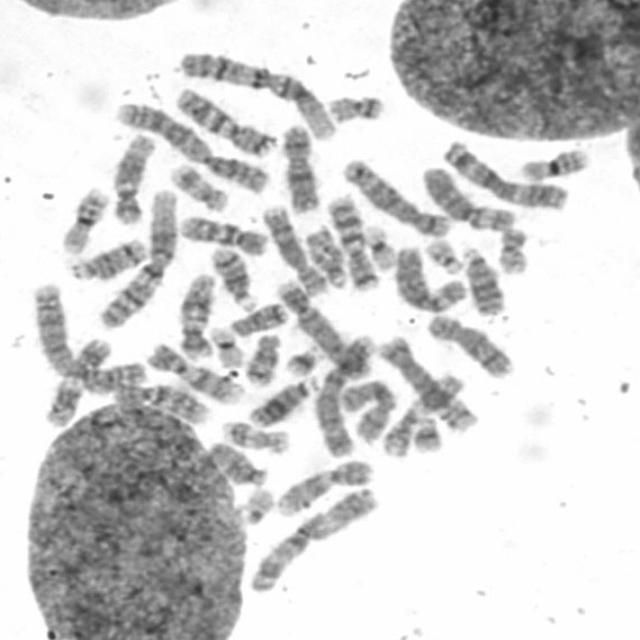A1: (172, 45, 340, 142), (92, 180, 182, 330)
A2: (109, 96, 273, 194), (24, 274, 150, 392)
A3: (242, 480, 381, 595), (436, 134, 572, 211)
B4: (269, 272, 374, 381), (309, 327, 380, 459)
B5: (371, 330, 480, 434), (336, 151, 454, 239)
C10: (105, 376, 214, 426), (172, 208, 271, 257)
C11: (373, 367, 467, 459), (37, 331, 114, 428)
C12: (105, 127, 158, 226), (171, 267, 218, 360)
C6: (416, 159, 519, 232), (388, 238, 470, 313)
C7: (169, 80, 280, 158), (320, 186, 382, 292)
C8: (255, 198, 331, 298), (421, 306, 517, 379)
C9: (269, 452, 378, 518), (141, 337, 246, 405)
D13: (242, 368, 323, 429), (454, 240, 508, 317)
D14: (64, 232, 151, 282), (203, 240, 260, 312)
D15: (203, 436, 271, 488), (300, 222, 351, 289)
E16: (54, 180, 112, 255), (514, 140, 594, 182)
E17: (162, 156, 232, 213), (214, 414, 294, 454)
E18: (223, 296, 291, 338), (238, 327, 284, 387)
F19: (357, 217, 399, 272), (204, 320, 248, 368)
F20: (321, 86, 388, 124), (492, 220, 533, 276)
G21: (279, 337, 326, 378), (405, 410, 446, 456)
G22: (419, 231, 468, 275), (235, 480, 277, 527)
X: (274, 117, 324, 213), (333, 373, 399, 444)
